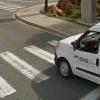Crosswalk: (1, 43, 53, 95)
